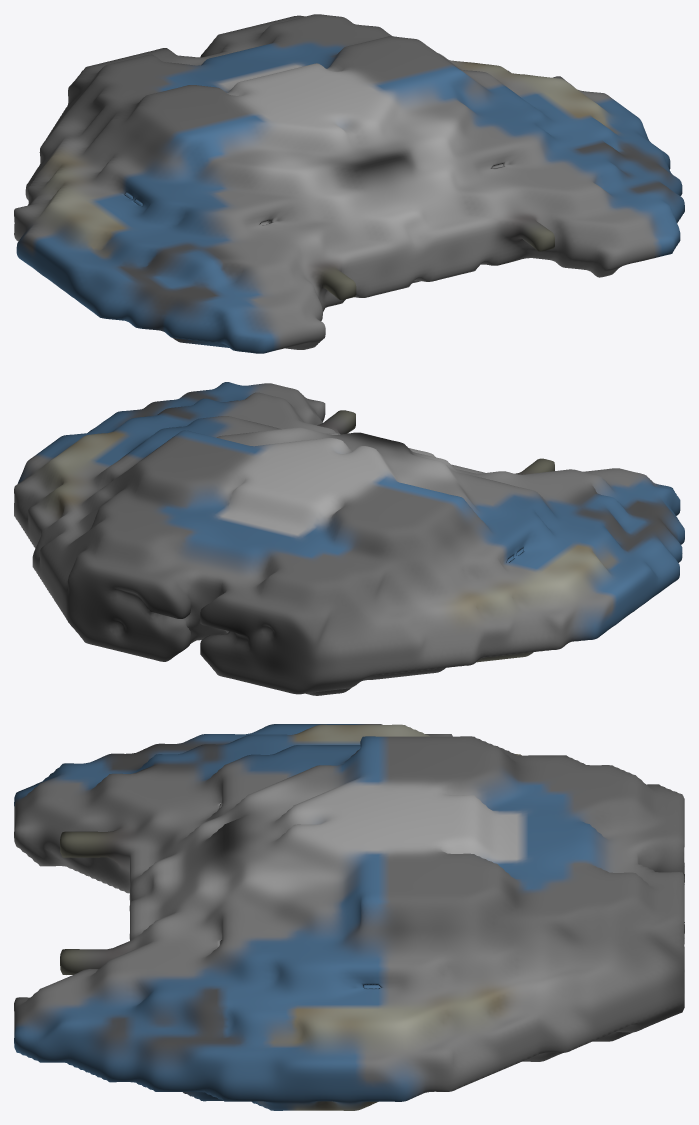
Rendered from crashed_ufo.glb.
3 renders of one model, top to bottom at view 1: azimuth 30°, elevation 25°; view 2: azimuth 150°, elevation 25°; view 3: azimuth 270°, elevation 25°, orthographic. The views are drawn at different scales.
Parts seen in each view (by area): view 1: crashed_ufo; view 2: crashed_ufo; view 3: crashed_ufo.
Boxes of the visible parts, x1,y1,x2,y2 form: crashed_ufo: [14, 14, 684, 353]; crashed_ufo: [14, 382, 684, 695]; crashed_ufo: [14, 724, 684, 1110].
Size of the model in its own units: 2.92 by 0.6065 by 2.41.
